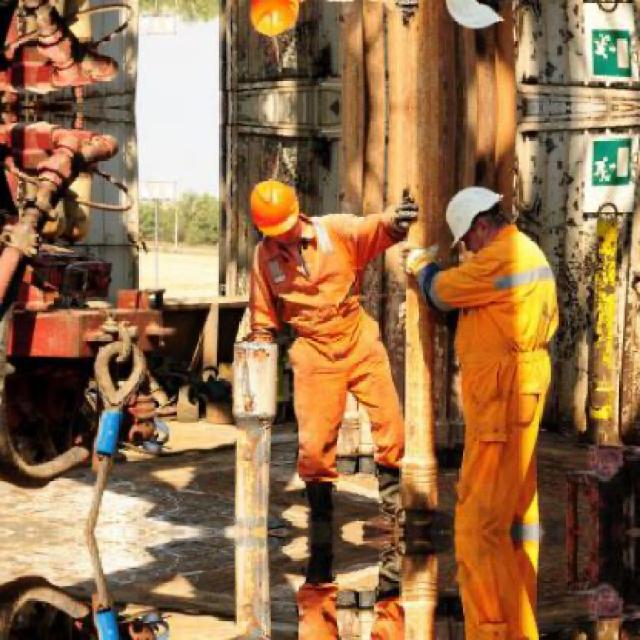con casco: (228, 174, 324, 257), (447, 183, 538, 268)
